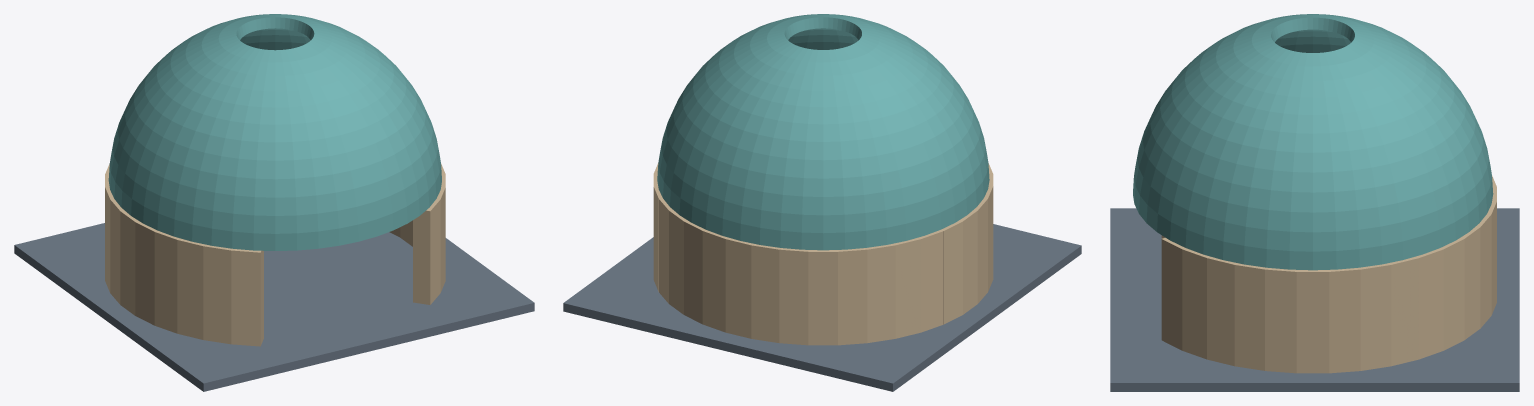
Rendered from sample.glb.
3 views of the same model, side by side, from view 1: azimuth 30°, elevation 25°; view 2: azimuth 150°, elevation 25°; view 3: azimuth 270°, elevation 25° (orthographic). The views are drawn at different scales.
Visible parts, largest first — view 1: dome_shell_with_open_oculus, DISPLAY_plinth, drum_segment.023, drum_segment.022, drum_segment.024, drum_segment.021, drum_segment.020, drum_segment.019, drum_segment.018, drum_segment.017, drum_segment.016, drum_segment.025; view 2: dome_shell_with_open_oculus, DISPLAY_plinth, drum_segment.012, drum_segment.011, drum_segment.013, drum_segment.010, drum_segment.014, drum_segment.015, drum_segment.009, drum_segment.008, drum_segment.016, drum_segment.017 (+7 smaller); view 3: dome_shell_with_open_oculus, DISPLAY_plinth, drum_segment, drum_segment.001, drum_segment.028, drum_segment.002, drum_segment.027, drum_segment.003, drum_segment.026, drum_segment.025, drum_segment.004, drum_segment.005 (+4 smaller).
Part boxes in pixels (box(x1,y1,x2,y2)): dome_shell_with_open_oculus: box(108, 14, 441, 250); DISPLAY_plinth: box(14, 223, 534, 391); drum_segment.023: box(231, 248, 263, 346); drum_segment.022: box(203, 244, 231, 344); drum_segment.024: box(413, 199, 440, 304); drum_segment.021: box(177, 238, 204, 339); drum_segment.020: box(154, 230, 179, 333); drum_segment.019: box(135, 221, 157, 325); drum_segment.018: box(120, 210, 138, 315); drum_segment.017: box(110, 199, 123, 304); drum_segment.016: box(105, 186, 113, 292); drum_segment.025: box(436, 186, 445, 292); dome_shell_with_open_oculus: box(657, 14, 989, 250); DISPLAY_plinth: box(563, 224, 1081, 391); drum_segment.012: box(808, 250, 838, 345); drum_segment.011: box(779, 248, 809, 345); drum_segment.013: box(837, 248, 867, 345); drum_segment.010: box(751, 243, 780, 342); drum_segment.014: box(866, 244, 895, 342); drum_segment.015: box(893, 237, 921, 338); drum_segment.009: box(725, 237, 752, 338); drum_segment.008: box(702, 230, 727, 332); drum_segment.016: box(918, 229, 943, 332); drum_segment.017: box(941, 220, 962, 324); dome_shell_with_open_oculus: box(1133, 14, 1493, 270); DISPLAY_plinth: box(1110, 208, 1519, 391); drum_segment: box(1296, 270, 1329, 373); drum_segment.001: box(1329, 267, 1360, 373); drum_segment.028: box(1265, 267, 1296, 373); drum_segment.002: box(1359, 263, 1391, 370); drum_segment.027: box(1234, 263, 1266, 370); drum_segment.003: box(1389, 256, 1418, 366); drum_segment.026: box(1207, 256, 1236, 366); drum_segment.025: box(1182, 248, 1209, 359); drum_segment.004: box(1417, 248, 1443, 359); drum_segment.005: box(1441, 237, 1464, 350).
Bounding box in the file's own units: 7.38 × 5.31 × 7.31.
